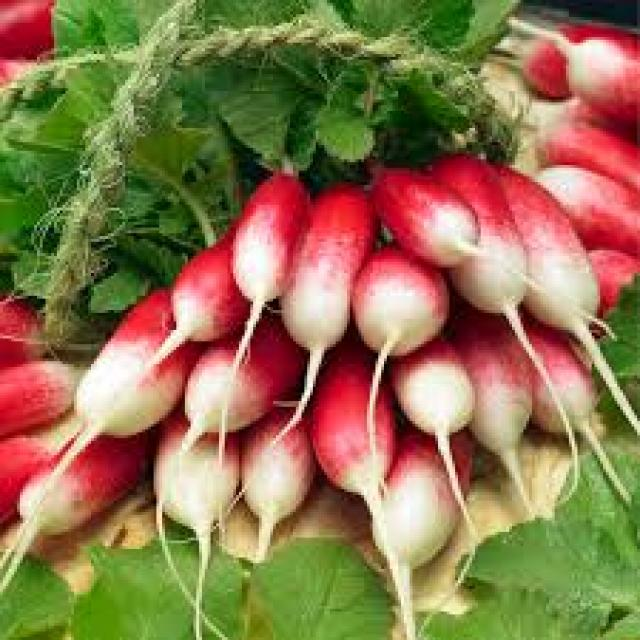organic waste: (0, 0, 637, 637), (0, 43, 523, 313), (148, 304, 304, 638), (273, 179, 384, 458), (506, 313, 637, 526), (435, 298, 543, 540), (369, 415, 484, 637), (142, 398, 245, 637), (51, 0, 524, 51), (410, 526, 614, 637), (344, 236, 447, 450), (486, 156, 600, 333), (381, 313, 475, 523), (68, 529, 242, 637), (11, 427, 151, 549), (310, 332, 398, 518), (230, 168, 310, 367), (239, 538, 395, 637), (552, 447, 637, 620), (358, 160, 492, 268), (444, 150, 529, 318), (228, 404, 307, 583), (130, 233, 244, 350), (509, 105, 637, 205), (526, 17, 637, 131), (504, 17, 637, 108), (526, 154, 637, 253), (0, 353, 80, 432), (0, 549, 71, 637), (0, 424, 57, 523), (464, 51, 526, 122), (580, 239, 637, 313), (0, 293, 54, 356), (0, 0, 51, 60), (589, 609, 637, 637), (0, 51, 31, 85)
